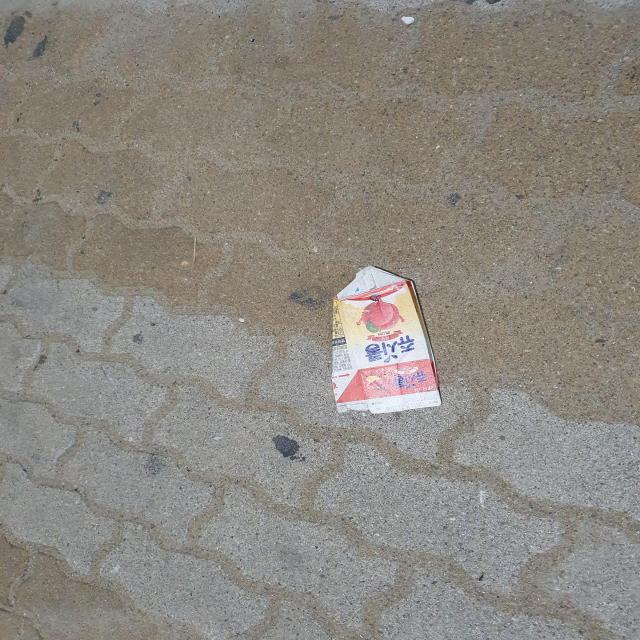paperpack: (332, 267, 441, 414)
